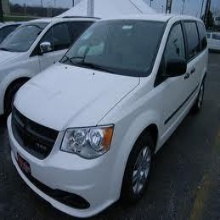no damage: (7, 14, 208, 220), (1, 17, 102, 116)
